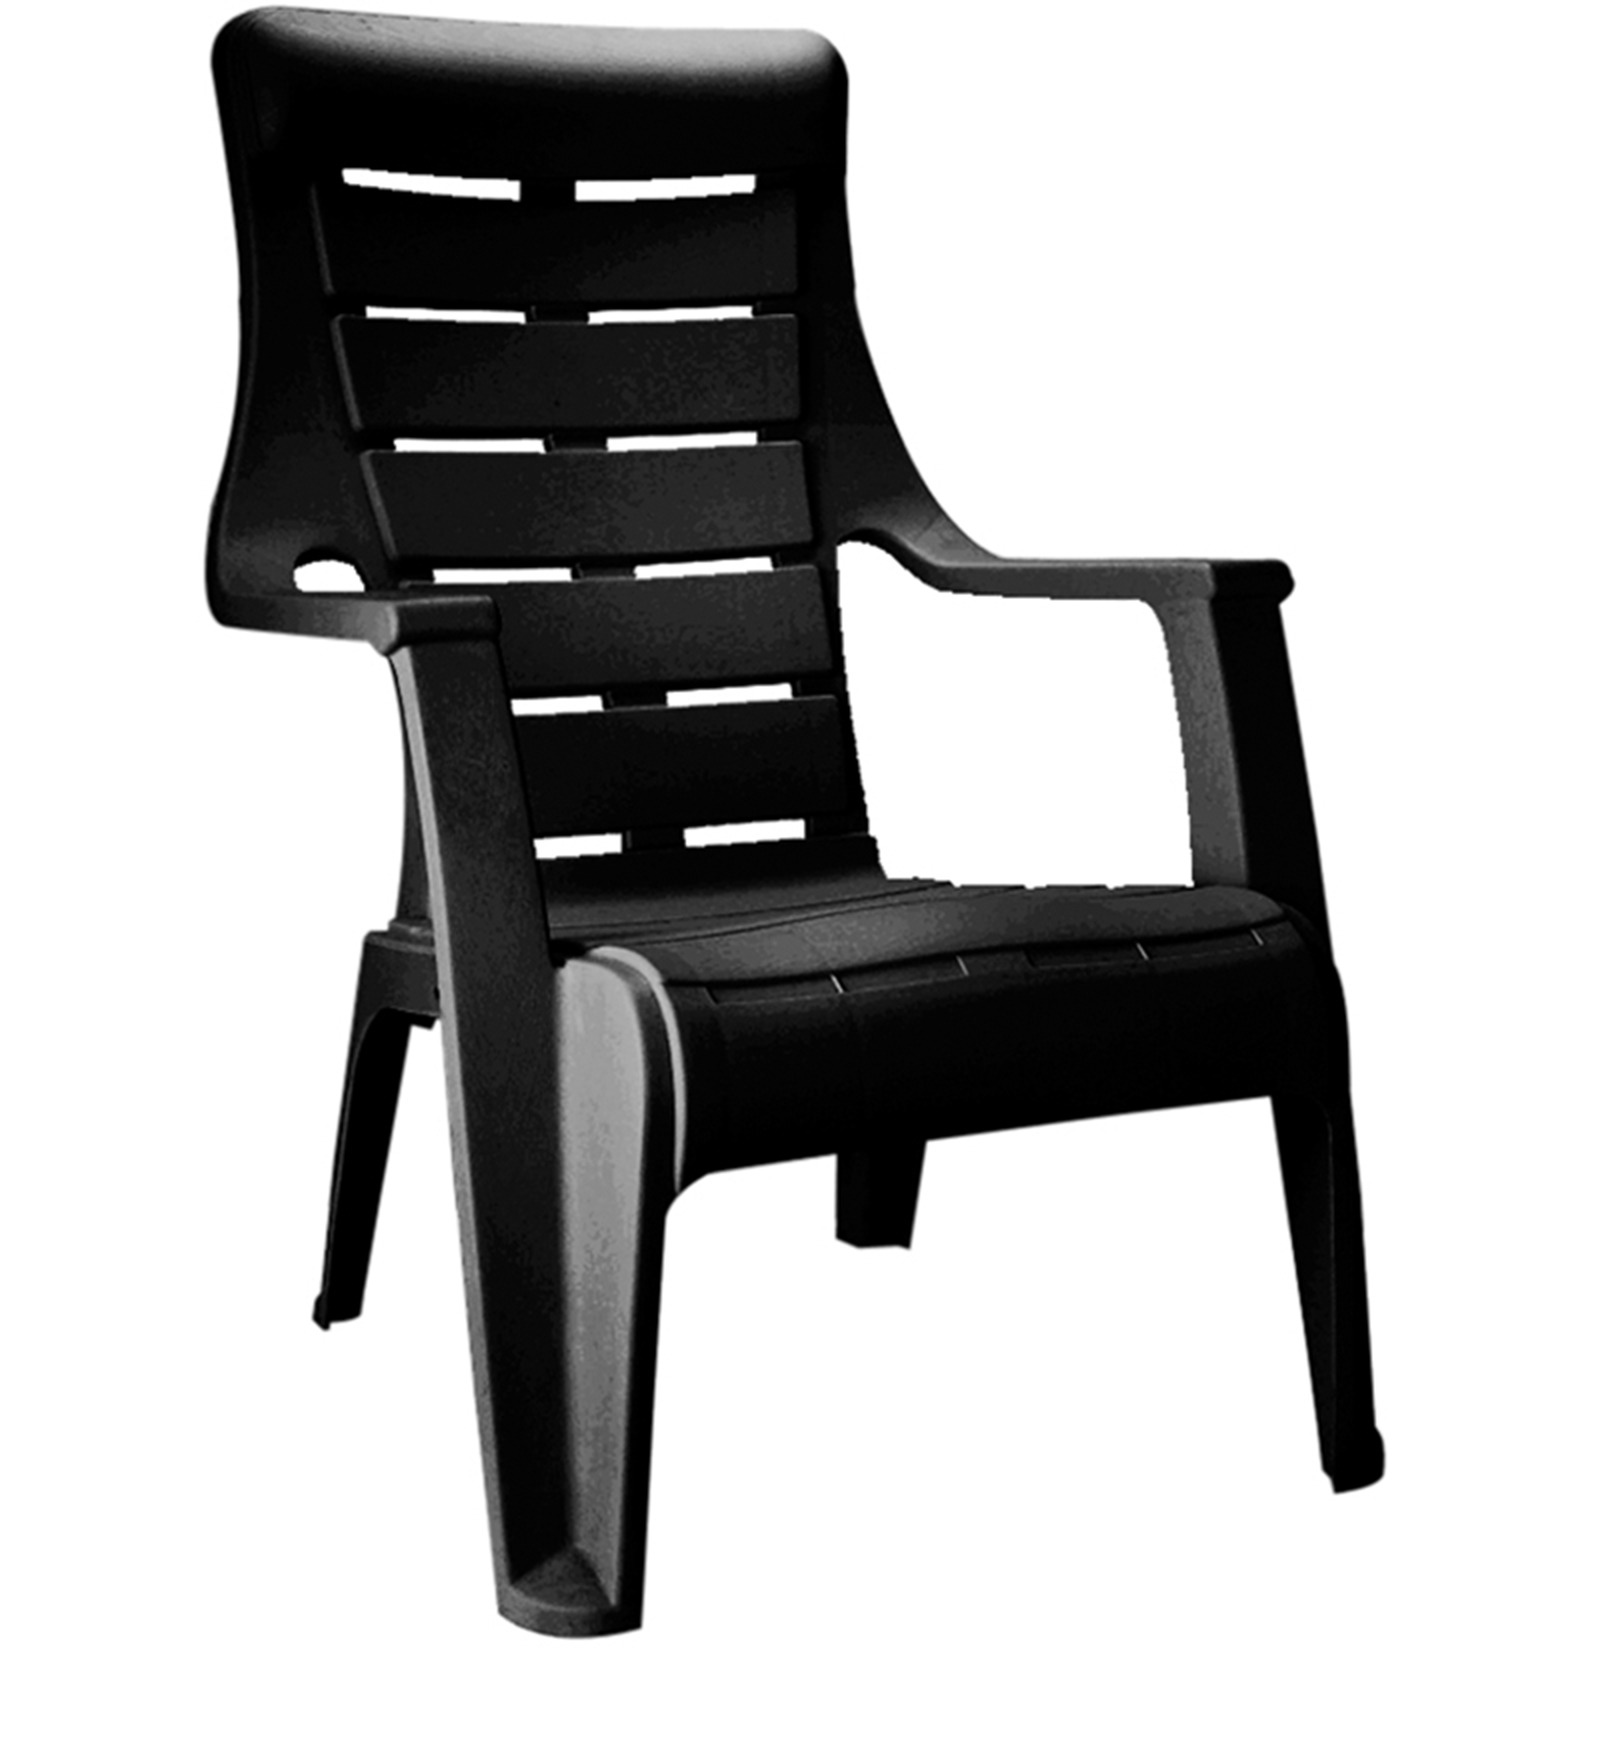Sunday Outdoor Arm Chair in Black Colour by Nilkamal: (93, 6, 1411, 1643)
